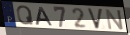2: (71, 7, 88, 30)
7: (52, 5, 67, 28)
A: (35, 7, 55, 27)
N: (105, 9, 125, 31)
Q: (16, 5, 35, 26)
V: (86, 8, 105, 31)
